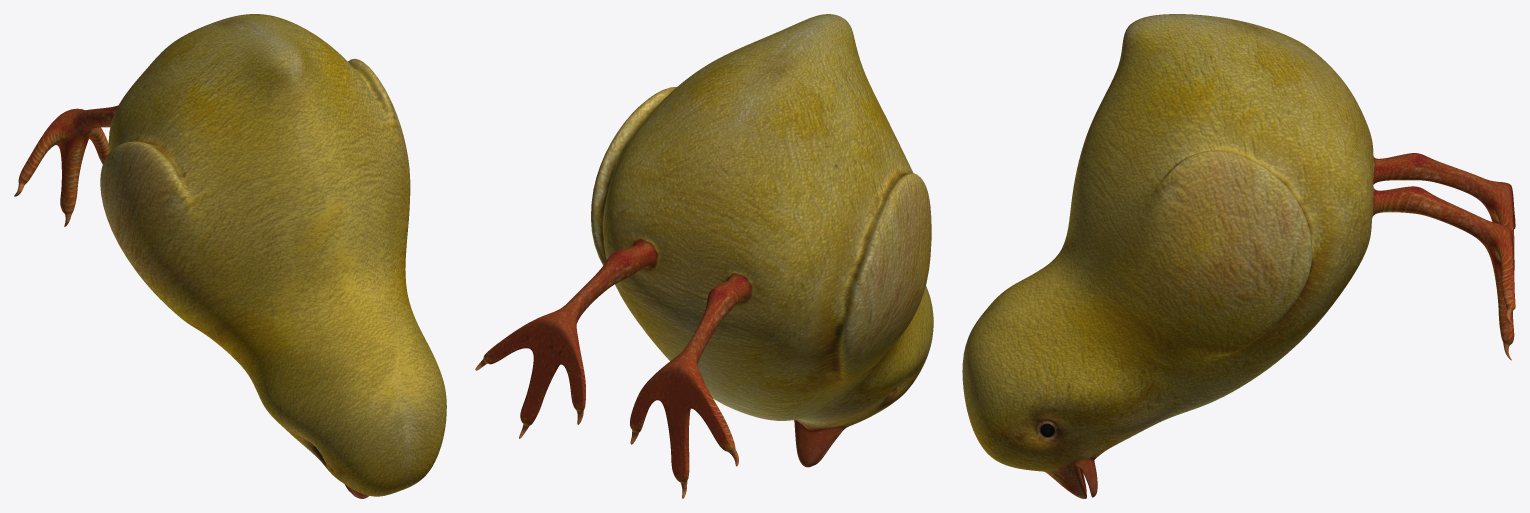
The model's file is chick.glb.
3 views of the same model, side by side, from view 1: azimuth 30°, elevation 25°; view 2: azimuth 150°, elevation 25°; view 3: azimuth 270°, elevation 25° (orthographic). The views are drawn at different scales.
Parts seen in each view (by area): view 1: Chick; view 2: Chick; view 3: Chick.
Boxes of the visible parts, x1,y1,x2,y2 form: Chick: (14, 14, 446, 498); Chick: (475, 14, 933, 498); Chick: (962, 14, 1515, 498).
Size of the model in its own units: 68.88 by 110 by 120.
1 material, 1 textured.
